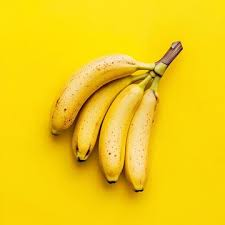banana: (42, 36, 185, 194)
